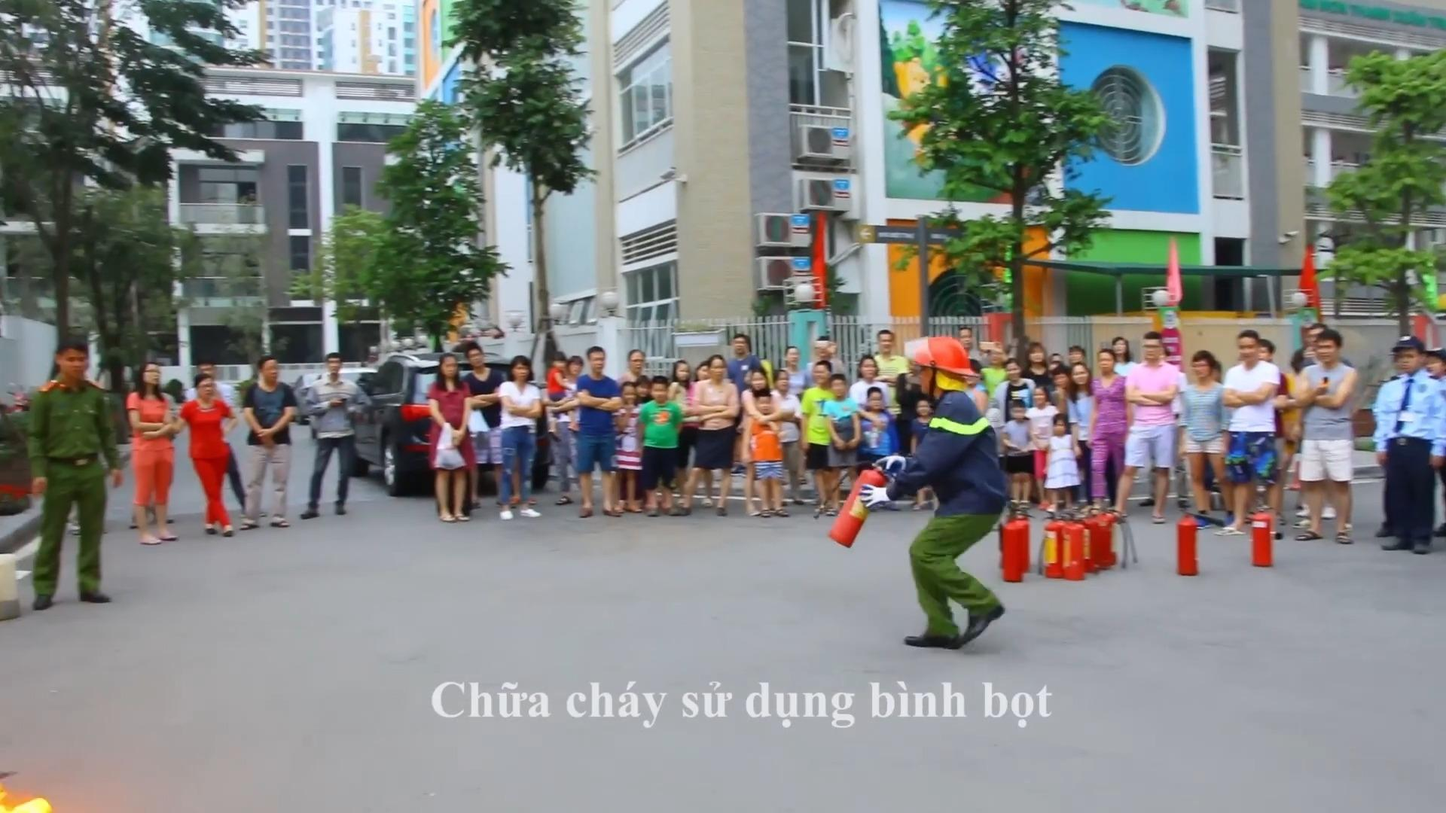FireExtinguisher: (820, 465, 895, 554), (1085, 501, 1145, 580), (991, 497, 1042, 588), (1043, 516, 1094, 586), (1241, 507, 1284, 574), (1171, 501, 1205, 582)
